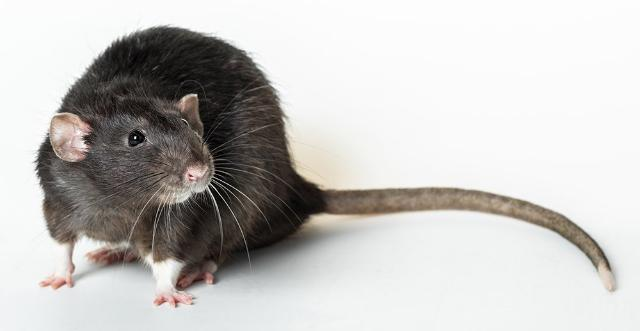rat: (28, 20, 456, 312)
